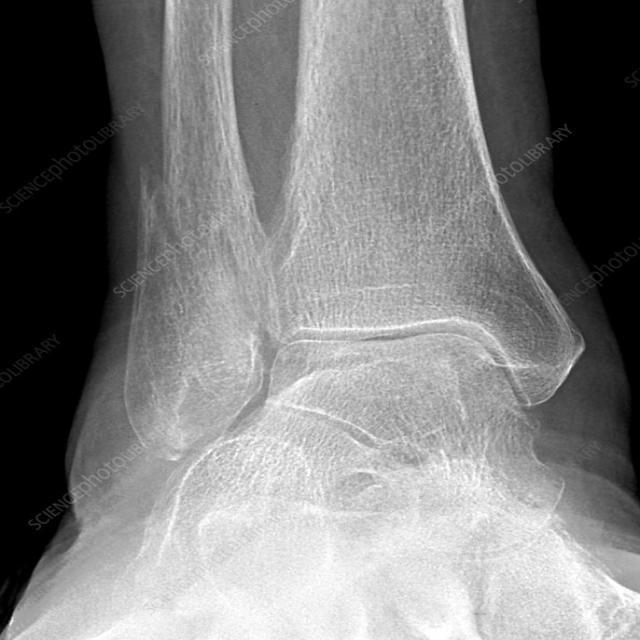Spiral: (104, 160, 294, 413)
